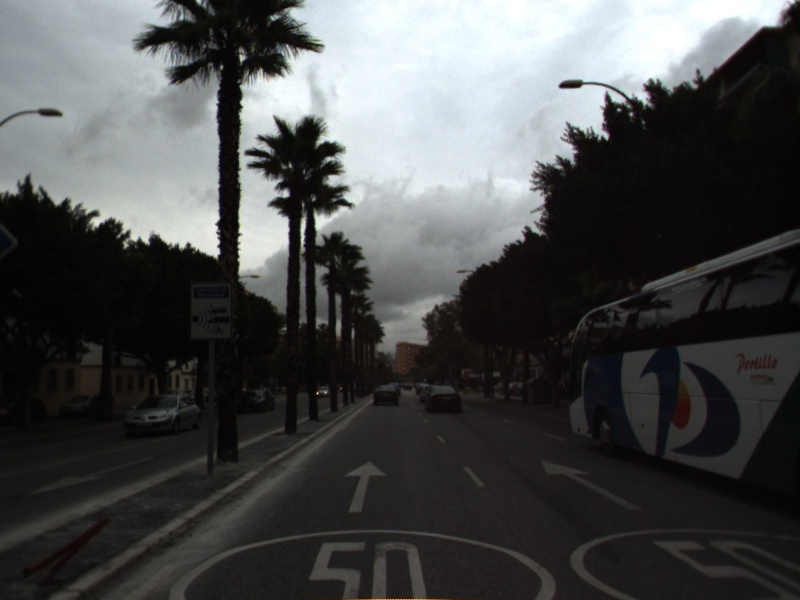STRAIGHT: (539, 458, 645, 513), (342, 459, 388, 515)
